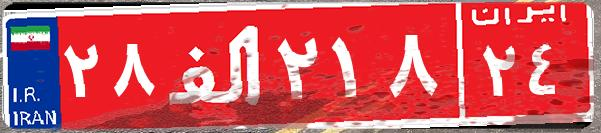1: (330, 28, 385, 110)
2: (273, 28, 330, 110), (57, 26, 110, 107), (475, 38, 525, 113)
4: (525, 38, 570, 115)
8: (385, 28, 445, 110), (110, 28, 158, 105)
الف: (158, 15, 273, 115)
